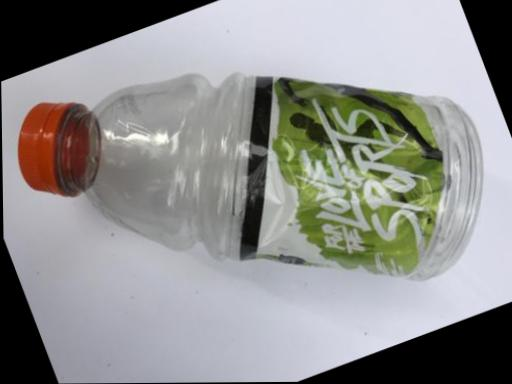plastic: (2, 0, 511, 381)
